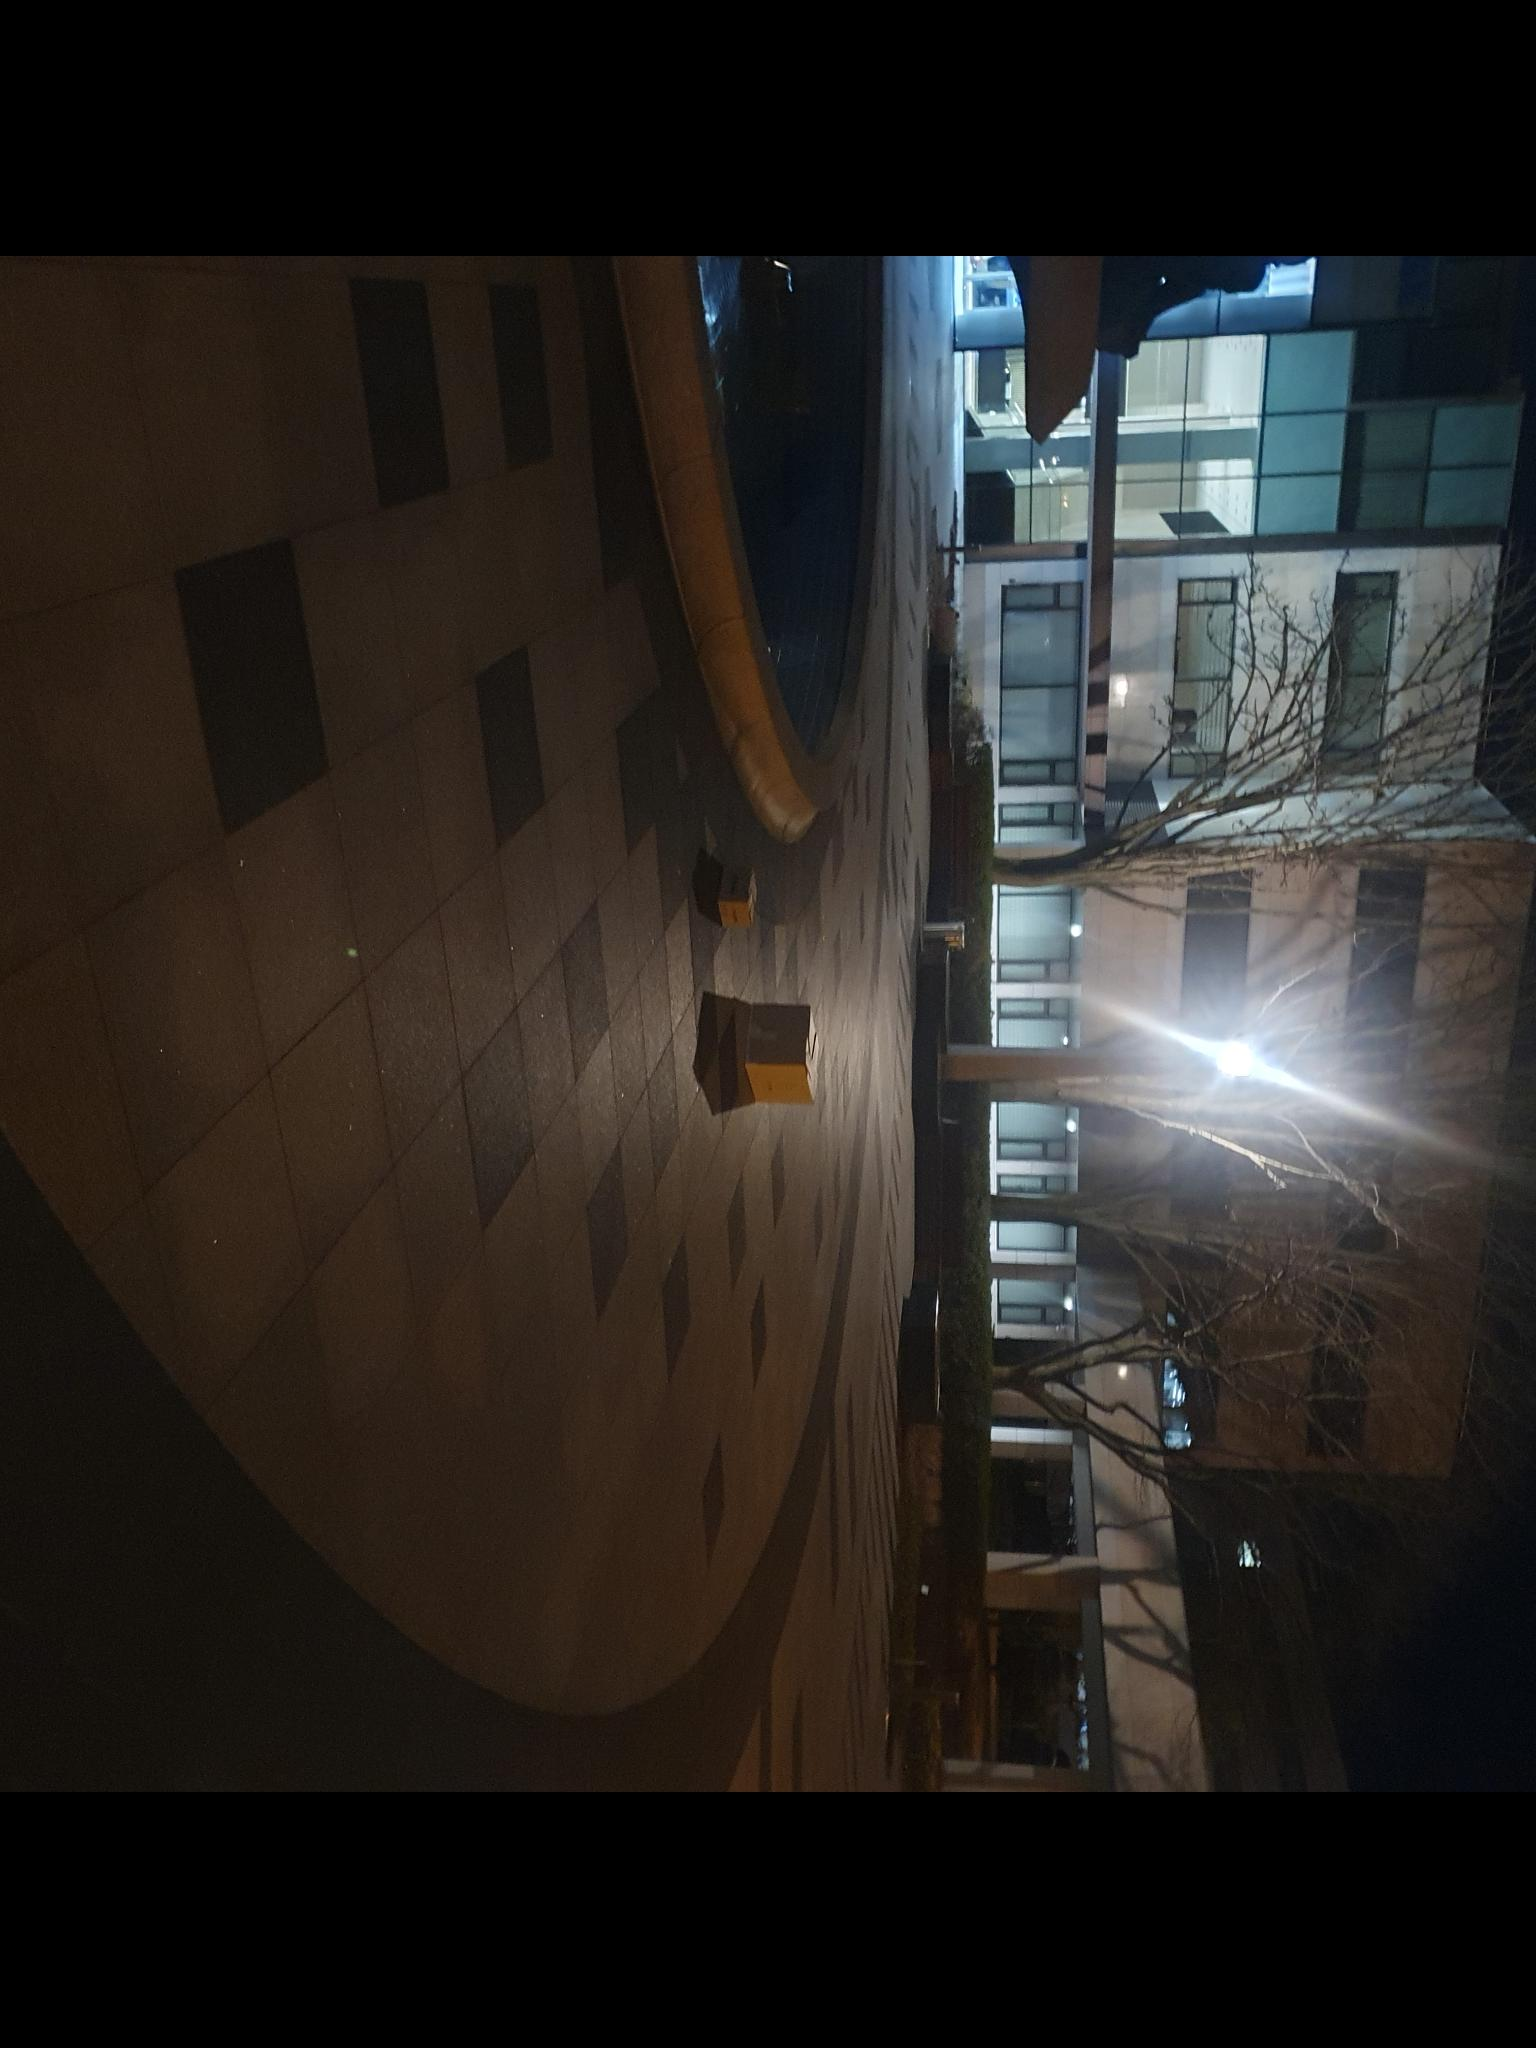Box: (741, 1001, 828, 1106), (715, 860, 773, 927)
